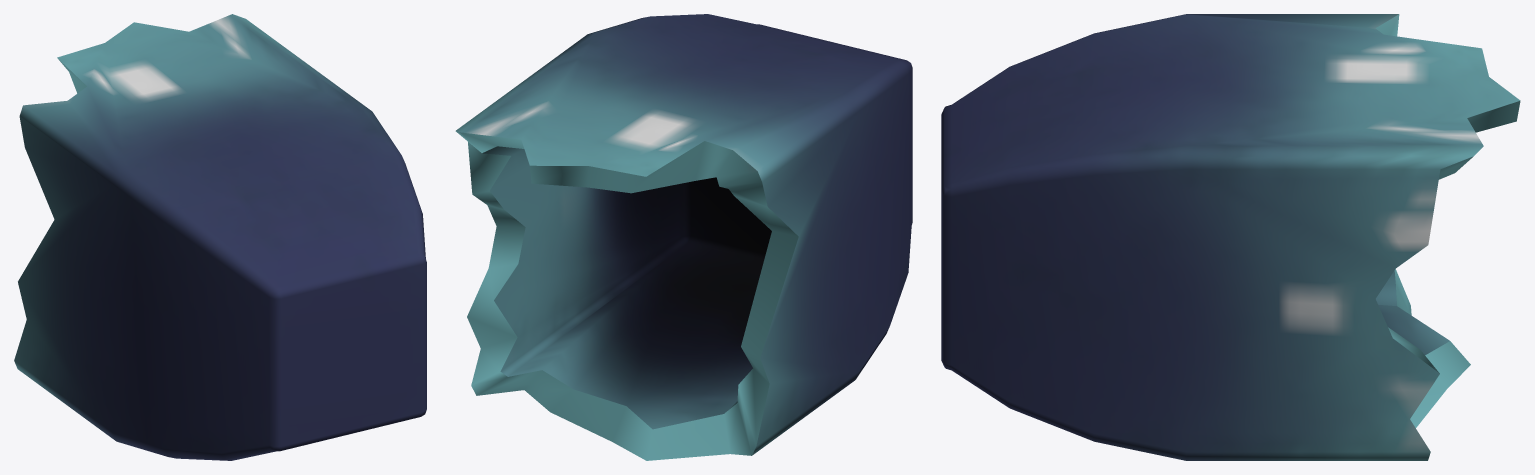
File: Pot_2_break_2.fbx
The picture shows the model from 3 angles, left to right: view 1: azimuth 30°, elevation 25°; view 2: azimuth 150°, elevation 25°; view 3: azimuth 270°, elevation 25°; orthographic projection. The views are drawn at different scales.
Parts seen in each view (by area): view 1: Pot_2_break_2; view 2: Pot_2_break_2; view 3: Pot_2_break_2.
Part boxes in pixels (x1=…): Pot_2_break_2: x1=14, y1=14, x2=426, y2=460; Pot_2_break_2: x1=455, y1=14, x2=912, y2=460; Pot_2_break_2: x1=941, y1=14, x2=1520, y2=460.
Bounding box in the file's own units: 37.02 × 37.82 × 61.89.
